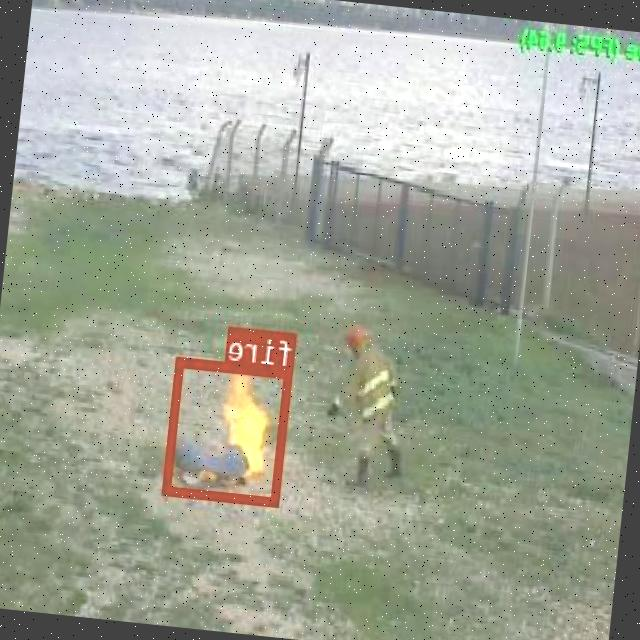fire: (163, 355, 294, 504)
